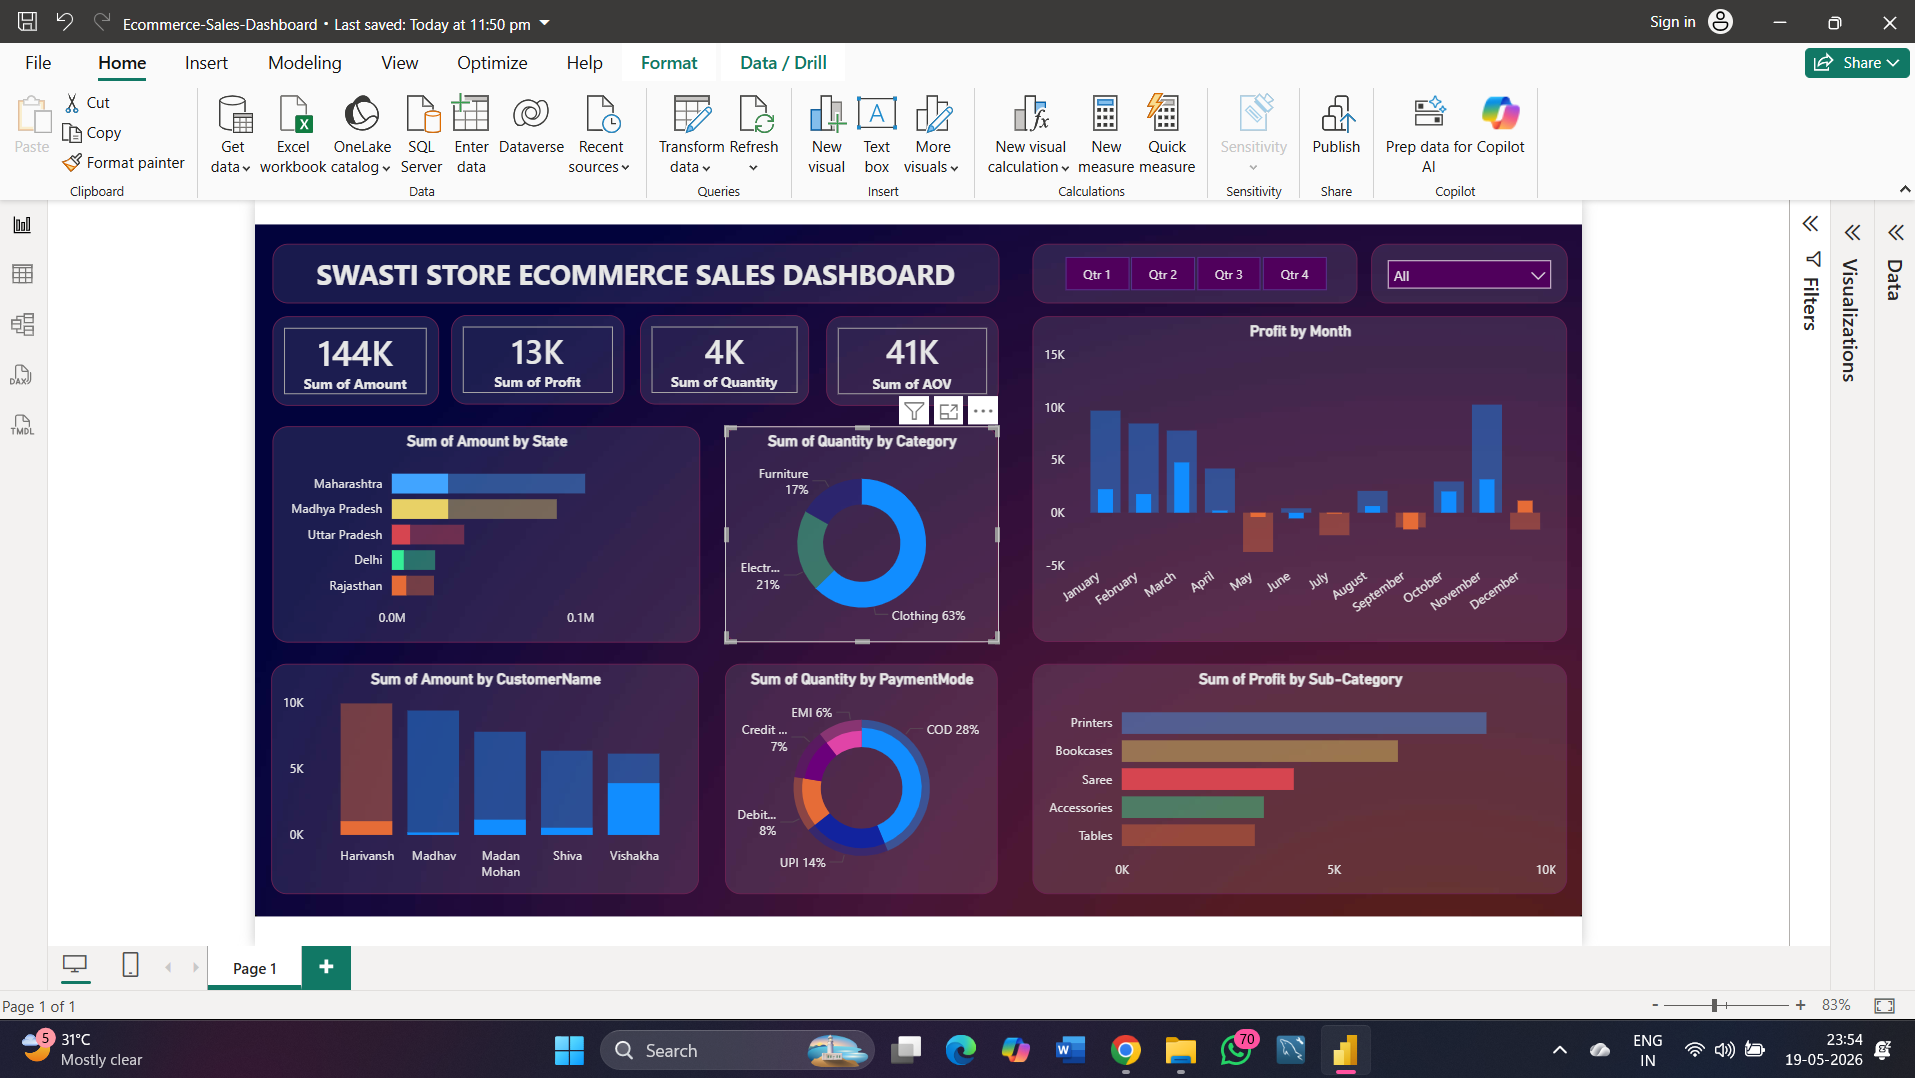

Layout of this report page (visuals, bound fields, positions):
{"tool":"powerbi","page":{"name":"Page 1","canvas":[1280,720],"ordinal":0},"visuals":[{"type":"columnChart","title":"Profit by Month","fields":{"Category":["Orders (1).Order Date.Variation.Date Hierarchy.Month"],"Y":["Sum(Details (1).Profit)"]},"box":[750.6,112.5,516,314.2],"z":0},{"type":"barChart","fields":{"Category":["Details (1).Sub-Category"],"Y":["Sum(Details (1).Profit)"]},"box":[750.6,447.3,516,222.3],"z":1000},{"type":"donutChart","fields":{"Category":["Details (1).Category"],"Y":["Sum(Details (1).Quantity)"]},"box":[454.2,218.2,263.5,208.6],"z":2000},{"type":"donutChart","fields":{"Y":["Sum(Details (1).Quantity)"],"Category":["Details (1).PaymentMode"]},"box":[454.2,447.3,263.5,222.3],"z":3000},{"type":"cardVisual","fields":{"Data":["Sum(Details (1).Amount)"]},"box":[16.5,112.5,160.5,86.4],"z":4000},{"type":"cardVisual","fields":{"Data":["Sum(Details (1).Quantity)"]},"box":[371.9,111.1,163.3,86.4],"z":5000},{"type":"cardVisual","fields":{"Data":["Sum(Details (1).Profit)"]},"box":[189.4,111.1,167.4,86.4],"z":6000},{"type":"cardVisual","fields":{"Data":["Sum(Details (1).AOV)"]},"box":[551.6,112.5,166,86.4],"z":7000},{"type":"barChart","fields":{"Category":["Orders (1).State"],"Y":["Sum(Details (1).Amount)"]},"box":[16.5,218.2,413,208.6],"z":8000},{"type":"columnChart","fields":{"Category":["Orders (1).CustomerName"],"Y":["Sum(Details (1).Amount)"]},"box":[16,447,413,222],"z":9000},{"type":"textbox","box":[16.5,42.5,701.2,57.6],"z":10000},{"type":"slicer","fields":{"Values":["Orders (1).Order Date.Variation.Date Hierarchy.Quarter"]},"box":[750.4,42.2,313.7,57.9],"z":11000},{"type":"slicer","fields":{"Values":["Orders (1).State"]},"box":[1077.4,42.2,189.4,57.9],"z":12000}]}

Visuals, with their boxes on the page's 1280x720 design canvas (x1, y1, x2, y2). These are canvas units, not pixel positions in the 1915x1078 screenshot, which may show the page scaled, cropped or inside an application window:
"Profit by Month" columnChart: bbox=[751, 112, 1267, 427]
barChart - Details (1).Sub-Category x Sum(Details (1).Profit): bbox=[751, 447, 1267, 670]
donutChart - Details (1).Category x Sum(Details (1).Quantity): bbox=[454, 218, 718, 427]
donutChart - Sum(Details (1).Quantity) x Details (1).PaymentMode: bbox=[454, 447, 718, 670]
cardVisual - Sum(Details (1).Amount): bbox=[16, 112, 177, 199]
cardVisual - Sum(Details (1).Quantity): bbox=[372, 111, 535, 198]
cardVisual - Sum(Details (1).Profit): bbox=[189, 111, 357, 198]
cardVisual - Sum(Details (1).AOV): bbox=[552, 112, 718, 199]
barChart - Orders (1).State x Sum(Details (1).Amount): bbox=[16, 218, 430, 427]
columnChart - Orders (1).CustomerName x Sum(Details (1).Amount): bbox=[16, 447, 429, 669]
textbox: bbox=[16, 42, 718, 100]
slicer - Orders (1).Order Date.Variation.Date Hierarchy.Quarter: bbox=[750, 42, 1064, 100]
slicer - Orders (1).State: bbox=[1077, 42, 1267, 100]
